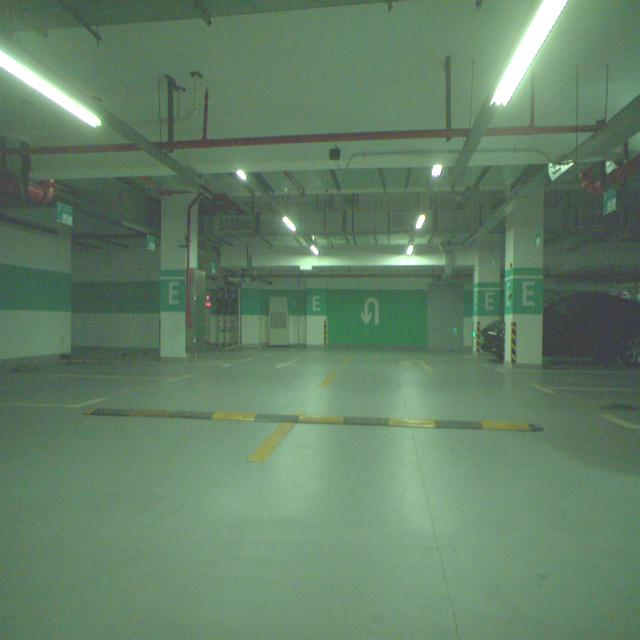pillar: (505, 188, 544, 364), (160, 194, 199, 356), (472, 238, 502, 352)
